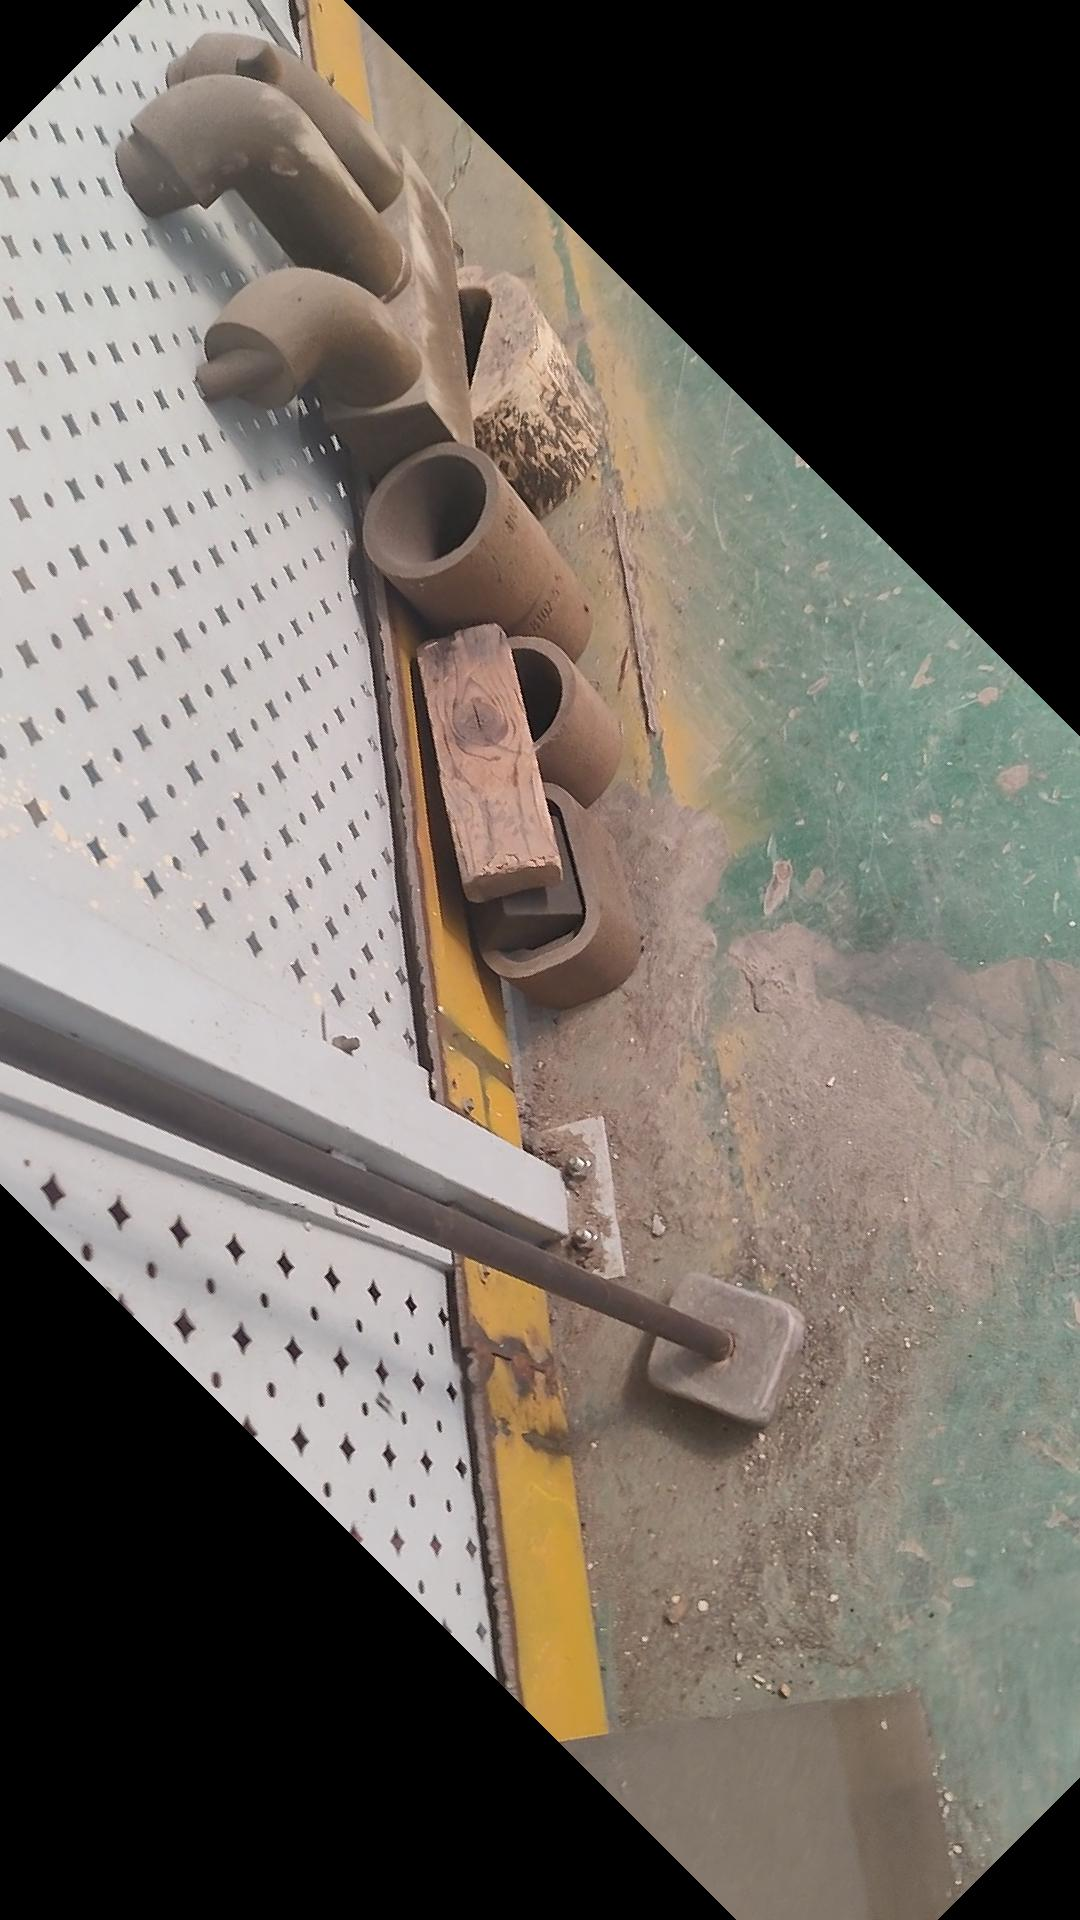pouring hole: (372, 454, 487, 564), (458, 647, 564, 748)
